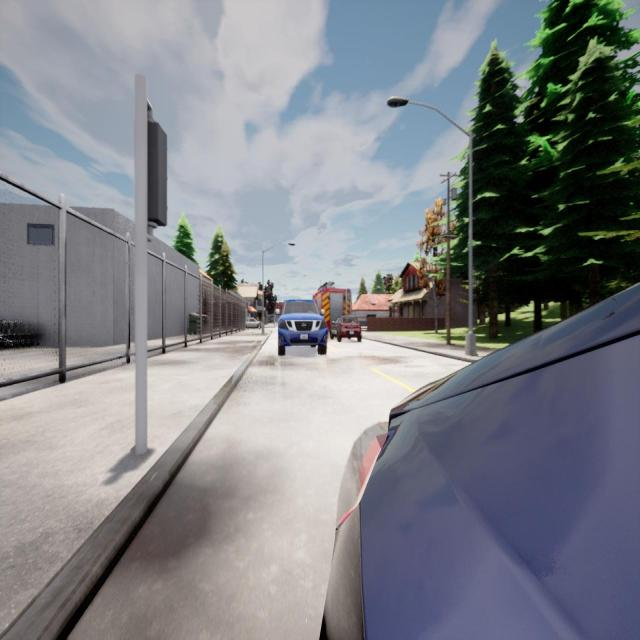Vehicle: (327, 287, 640, 640), (278, 298, 327, 356), (312, 282, 352, 317), (330, 317, 361, 342), (245, 317, 261, 328)
traffic_light: (148, 123, 169, 223)
